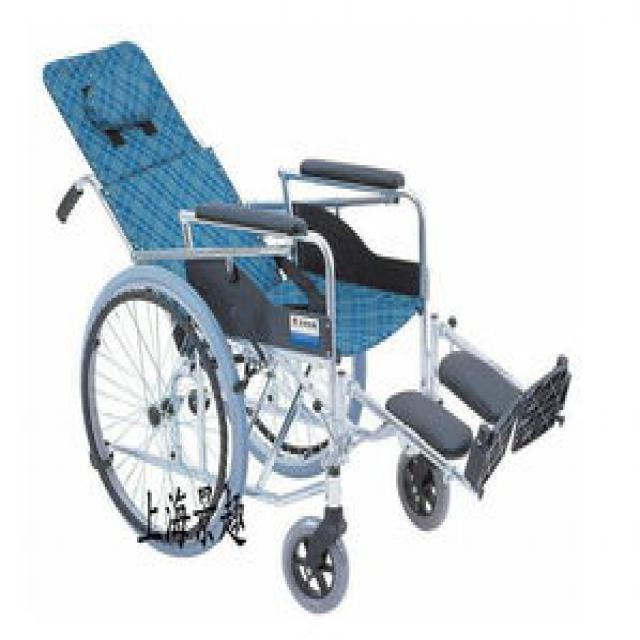wheelchair: (32, 33, 580, 616)
